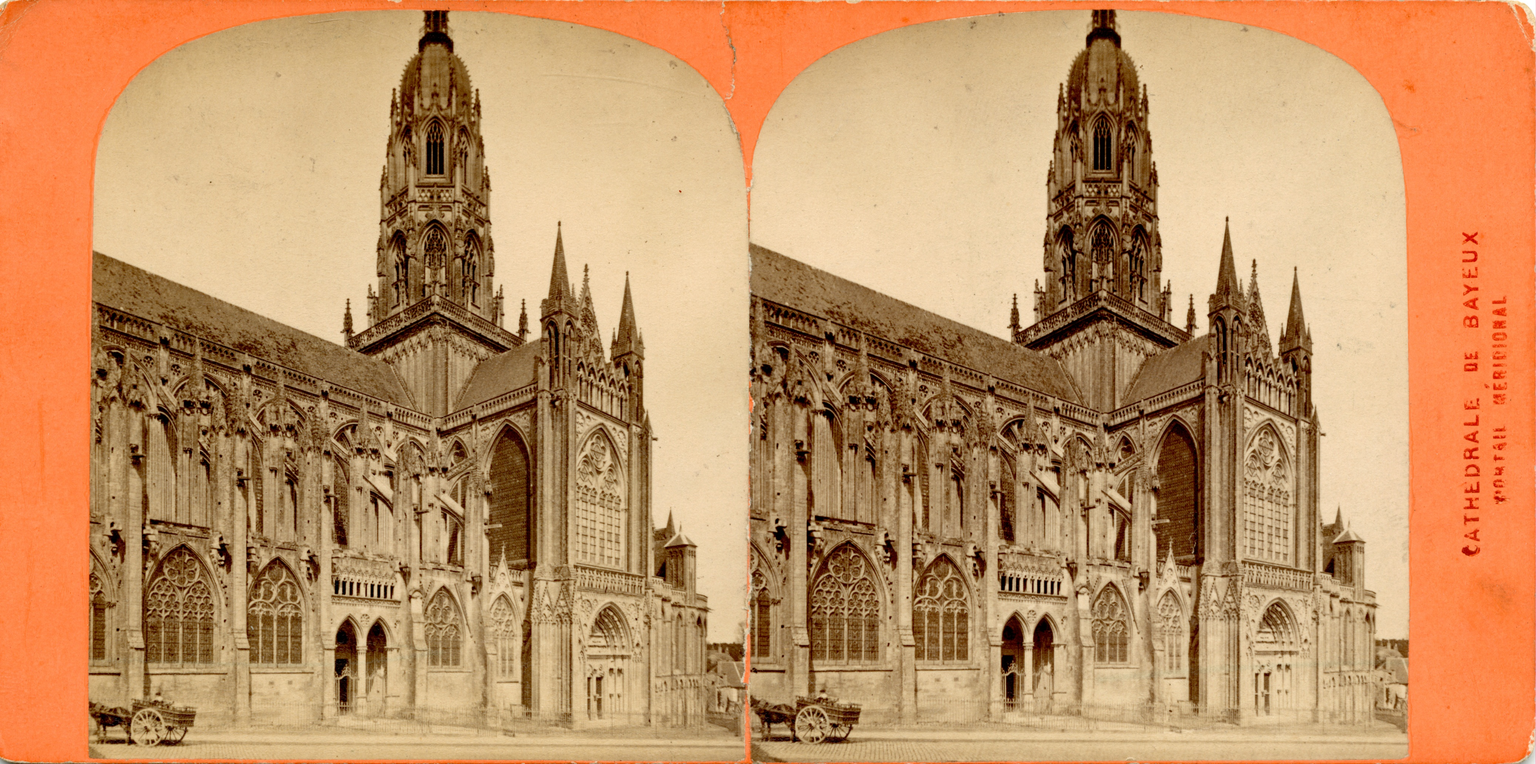half_image: (750, 7, 1408, 760), (88, 10, 747, 759)
